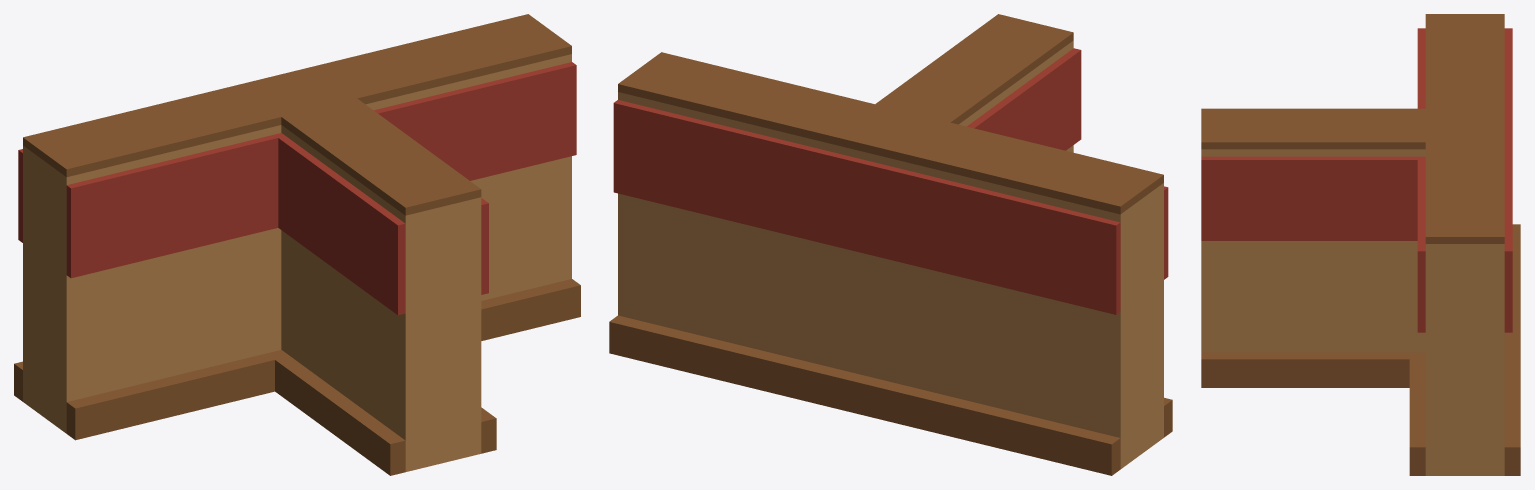
Rendered from partition-tee.glb.
The picture shows the model from 3 angles, left to right: view 1: azimuth 30°, elevation 25°; view 2: azimuth 150°, elevation 25°; view 3: azimuth 270°, elevation 25°; orthographic projection. The views are drawn at different scales.
Parts seen in each view (by area): view 1: partition-tee; view 2: partition-tee; view 3: partition-tee.
Boxes of the visible parts, x1,y1,x2,y2 form: partition-tee: (14,14,580,475); partition-tee: (609,14,1172,475); partition-tee: (1201,14,1520,475).
Bounding box in the file's own units: 1 × 0.5 × 0.605.
Materials: 1 (1 with a texture image).
